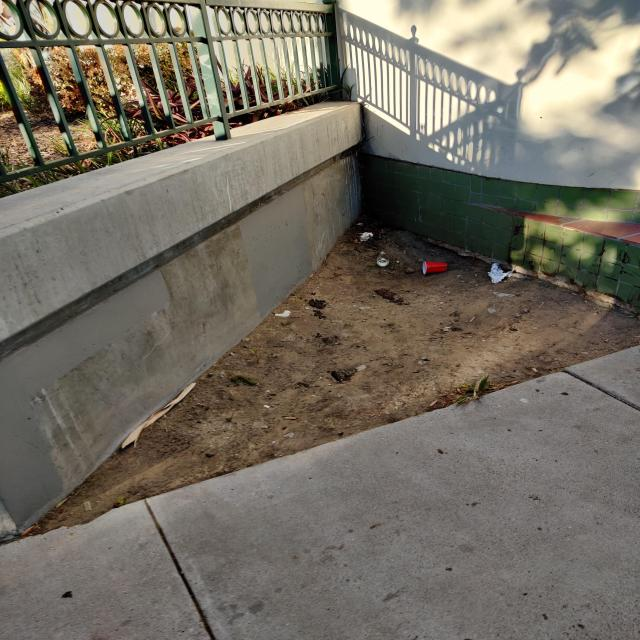litter: (421, 260, 449, 277)
